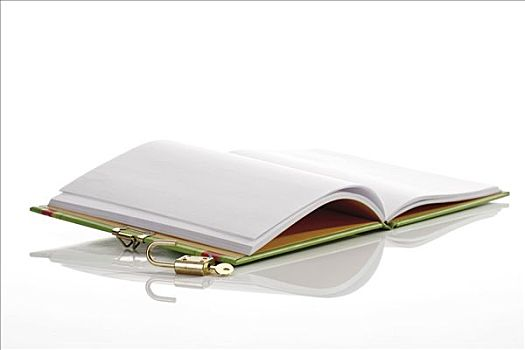book: (26, 135, 517, 269)
